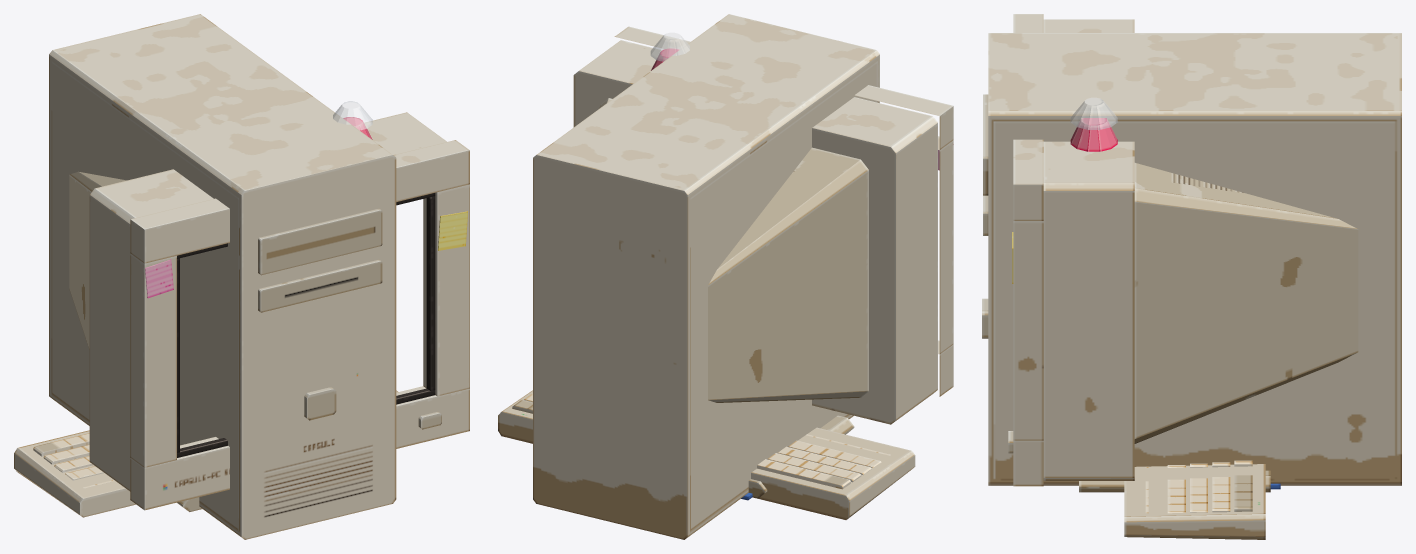
3 renders of one model, left to right at view 1: azimuth 30°, elevation 25°; view 2: azimuth 150°, elevation 25°; view 3: azimuth 270°, elevation 25°, orthographic. The views are drawn at different scales.
Parts seen in each view (by area): view 1: tower, monitor, keyboard; view 2: tower, monitor, keyboard; view 3: tower, monitor, keyboard.
Boxes of the visible parts, x1=… form: tower: x1=49, y1=14, x2=396, y2=539; monitor: x1=69, y1=101, x2=469, y2=511; keyboard: x1=14, y1=390, x2=398, y2=517; tower: x1=533, y1=14, x2=879, y2=539; monitor: x1=573, y1=26, x2=953, y2=498; keyboard: x1=498, y1=390, x2=915, y2=519; tower: x1=982, y1=33, x2=1401, y2=485; monitor: x1=1008, y1=14, x2=1358, y2=492; keyboard: x1=1124, y1=460, x2=1265, y2=539.
Size of the model in its own units: 0.432 by 0.4272 by 0.416.
Materials: 4 (4 with a texture image).
